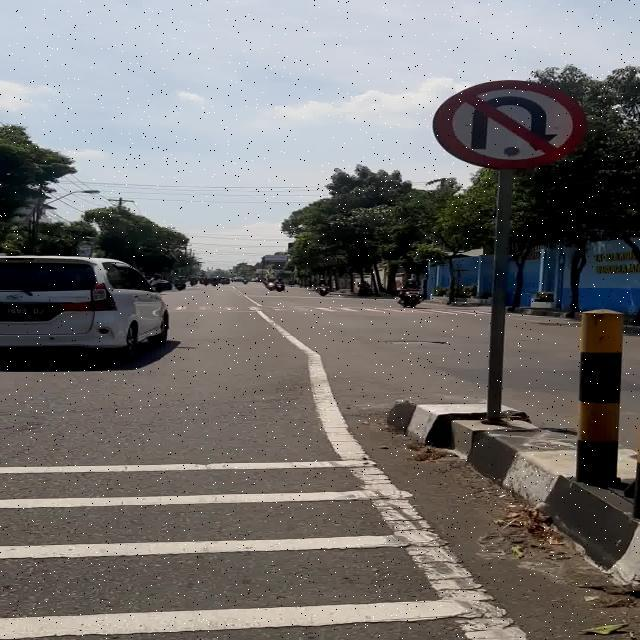Dilarang Putar Balik: (433, 80, 585, 168)
